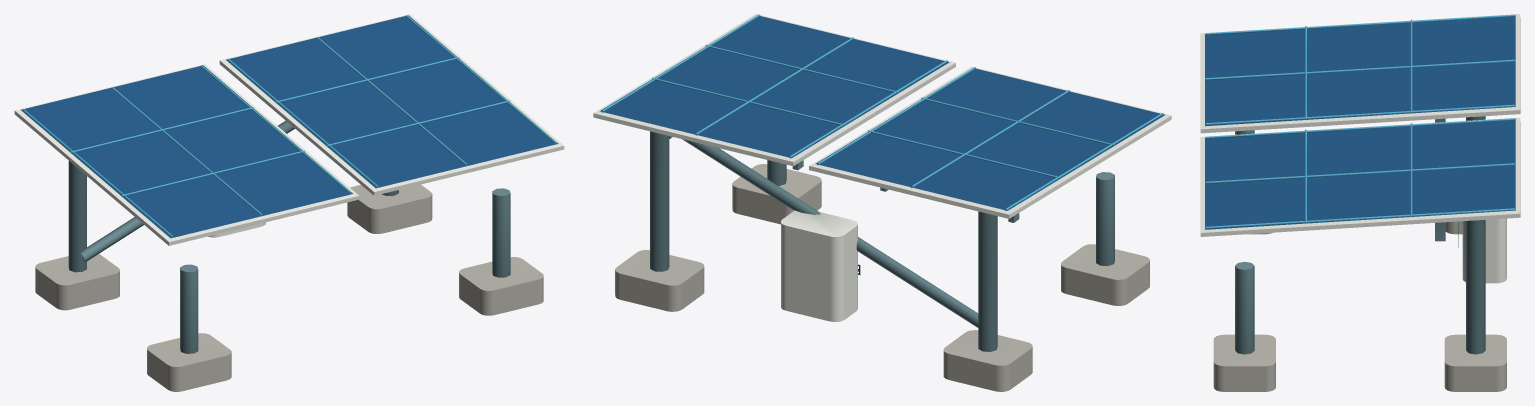
File: solar-rack-low.glb
3 renders of one model, left to right at view 1: azimuth 30°, elevation 25°; view 2: azimuth 150°, elevation 25°; view 3: azimuth 270°, elevation 25°, orthographic. The views are drawn at different scales.
Visible parts, largest first — view 1: photovoltaic cells, solar rack concrete foot, solar white frame, panel mounting leg, solar cell division; view 2: photovoltaic cells, solar white frame, solar rack concrete foot, panel mounting leg, solar cell division; view 3: photovoltaic cells, solar white frame, solar rack concrete foot, solar cell division, panel mounting leg.
Part boxes in pixels (x1,y1,x2,y2): photovoltaic cells: [21, 15, 558, 238]; solar rack concrete foot: [35, 184, 543, 391]; solar white frame: [14, 14, 564, 245]; panel mounting leg: [68, 120, 510, 353]; solar cell division: [22, 15, 556, 237]; photovoltaic cells: [600, 16, 1164, 210]; solar white frame: [593, 14, 1171, 321]; solar rack concrete foot: [615, 164, 1149, 391]; panel mounting leg: [650, 131, 1114, 351]; solar cell division: [601, 14, 1163, 210]; photovoltaic cells: [1205, 14, 1515, 229]; solar white frame: [1200, 14, 1520, 283]; solar rack concrete foot: [1213, 221, 1506, 391]; solar cell division: [1205, 14, 1514, 228]; panel mounting leg: [1235, 116, 1485, 354].
Size of the model in its own units: 2.66 by 1.15 by 1.8.
